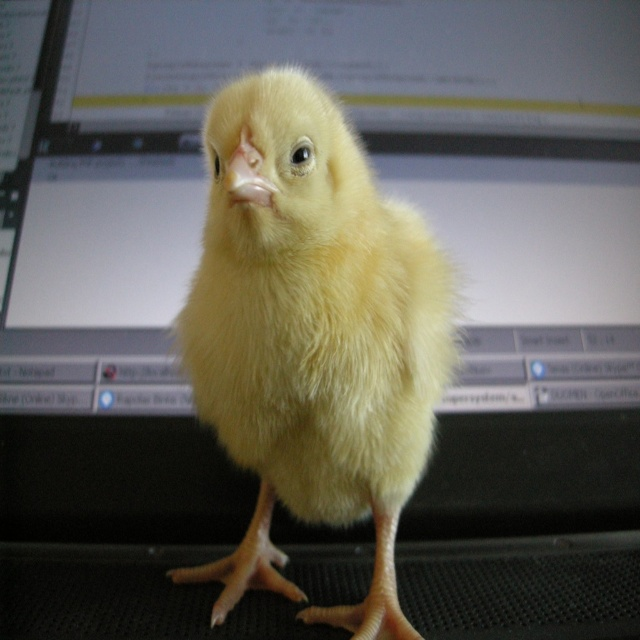Chicken: (174, 61, 473, 640)
